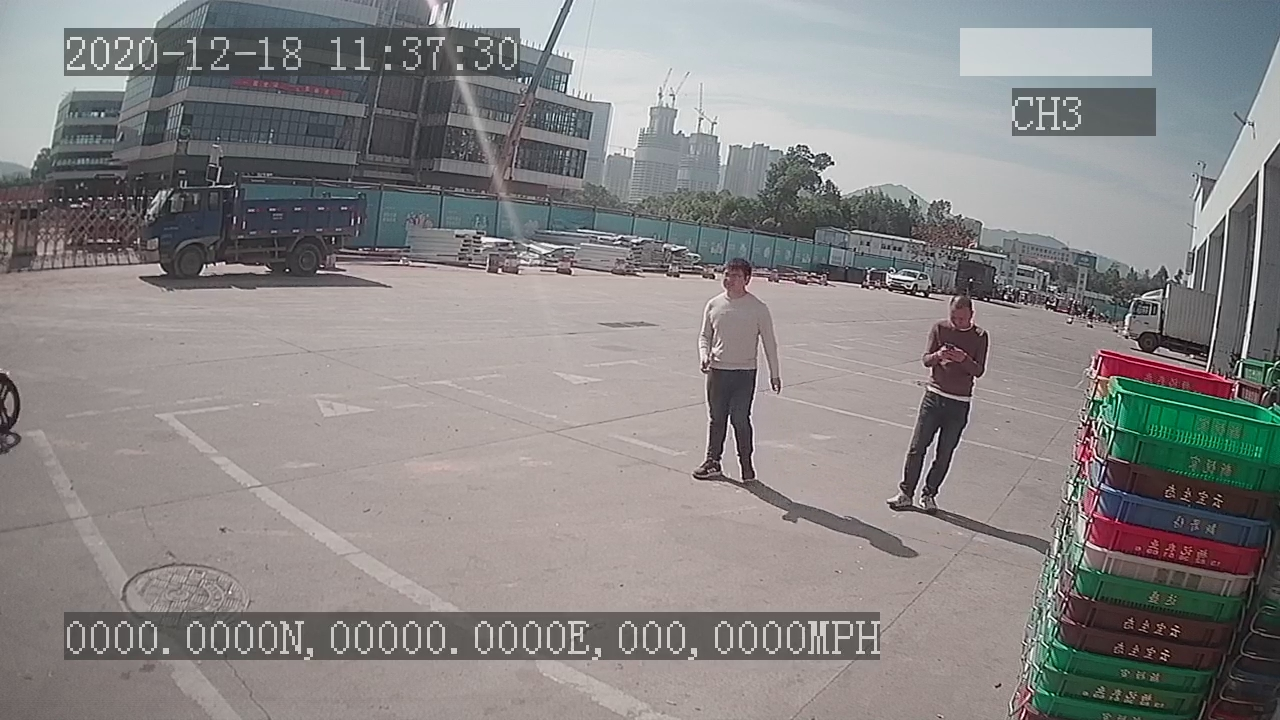person: (681, 249, 783, 484), (885, 289, 991, 514)
